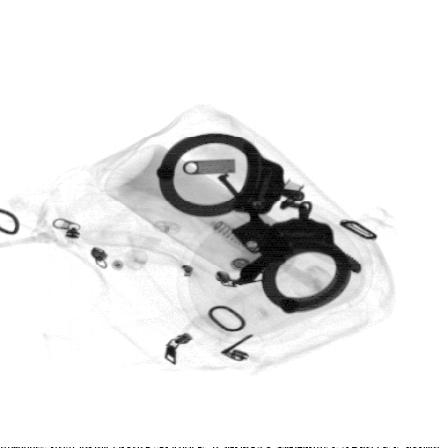Gun: (216, 171, 295, 284)
HandCuffs: (154, 132, 364, 313)
